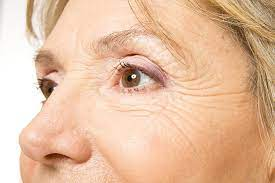Kerutan: (111, 97, 222, 153), (165, 58, 256, 114), (75, 43, 118, 107)
